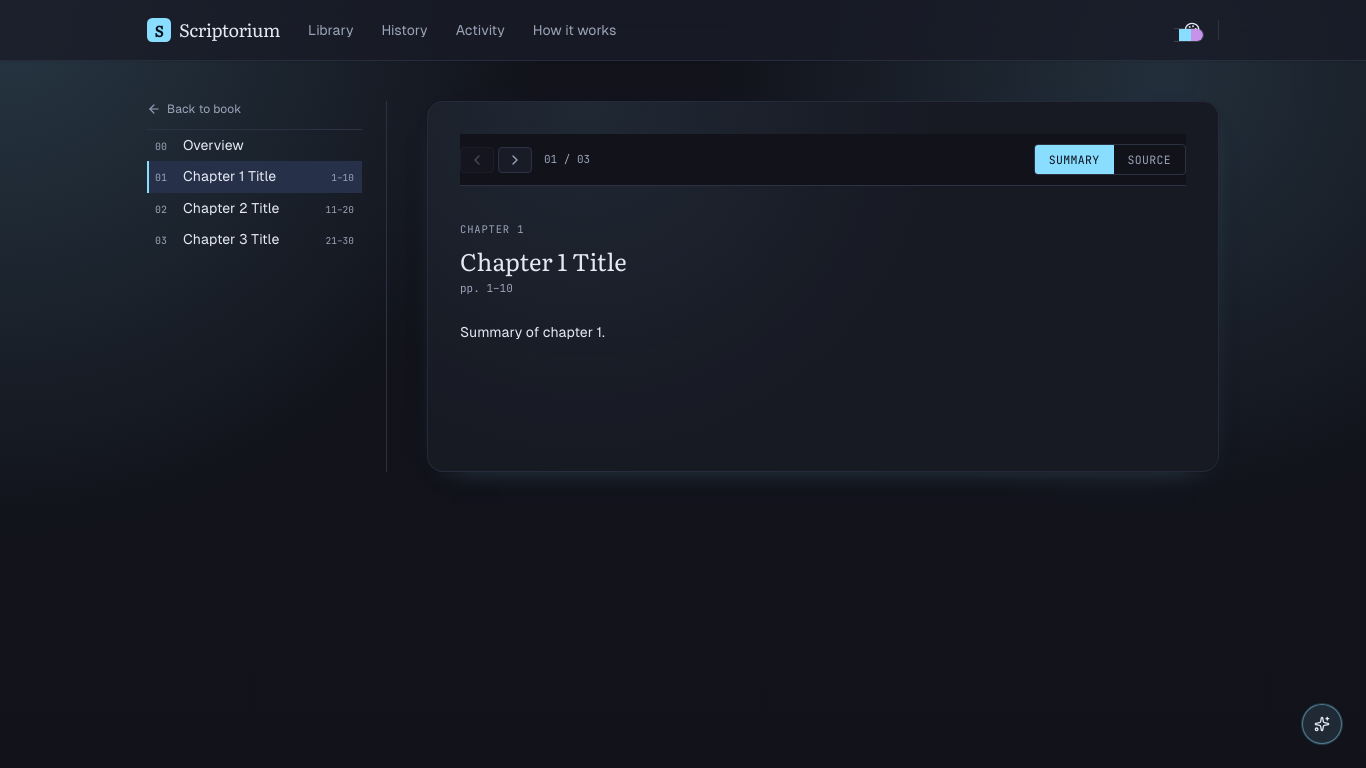
Test: toggling Summary <-> Source resets the column scroll to the top
Check: the text "Summary of chapter 1." is shown, box top-left (460, 324), bottom-right (605, 340)
Click the button "Source". click: [1149, 160]
box: top-left (1114, 145), bottom-right (1185, 174)
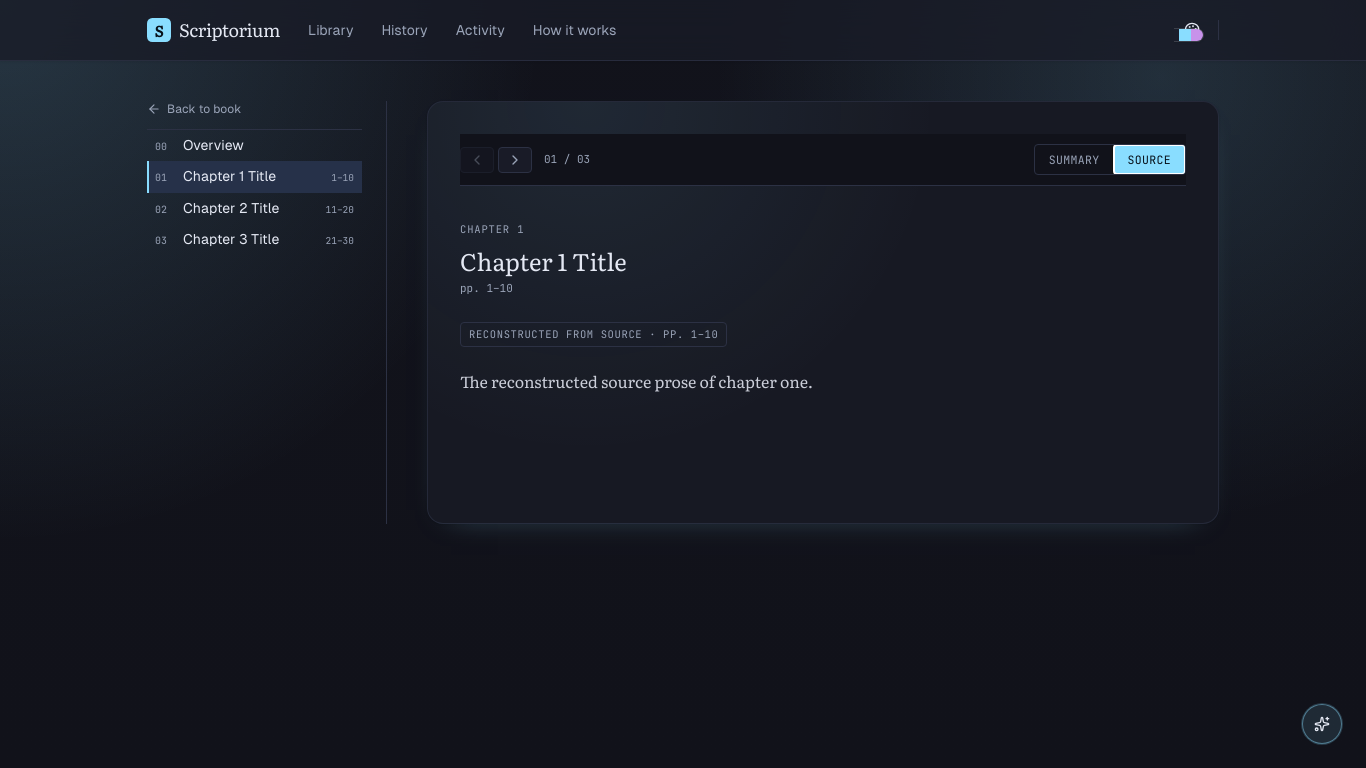
Check: the text "The reconstructed source prose of chapter one." is shown, box top-left (460, 369), bottom-right (813, 393)
